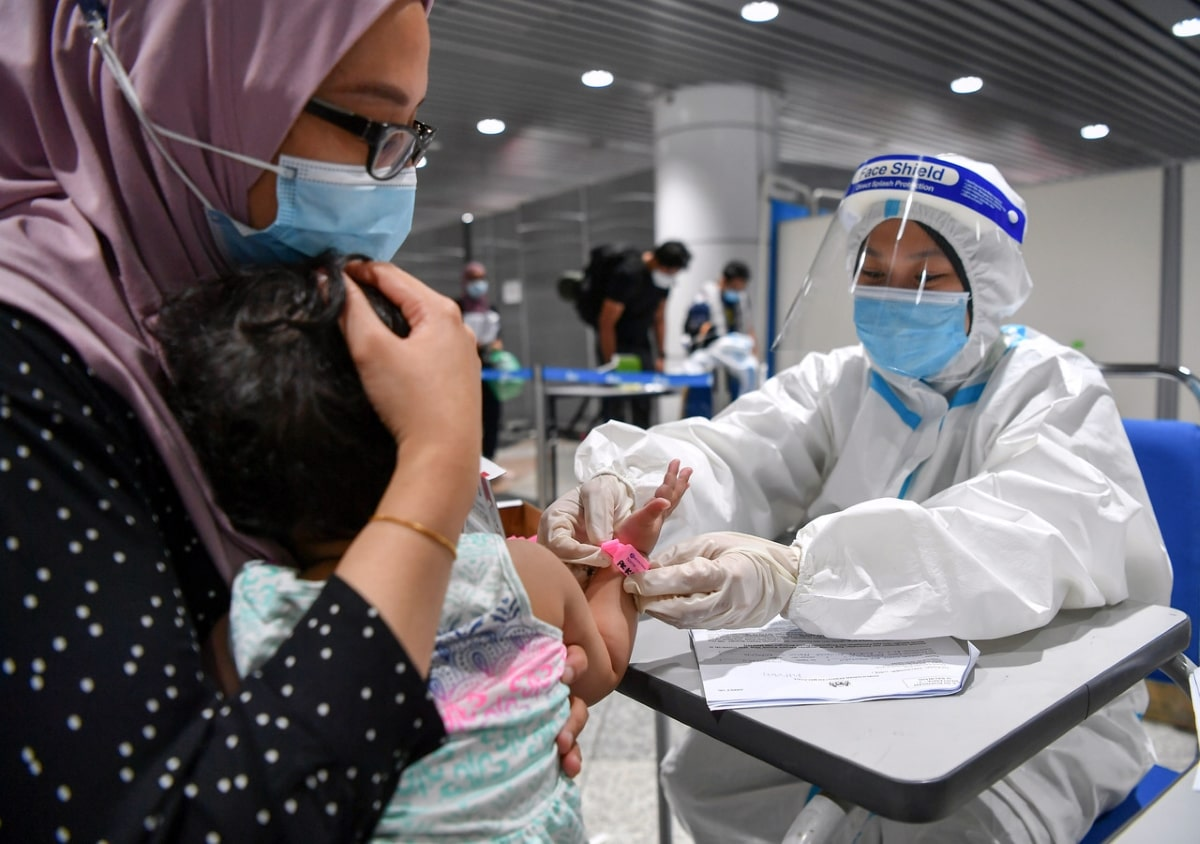Coverall: (566, 151, 1177, 838)
Face_Shield: (792, 143, 1030, 445)
Gloves: (624, 524, 811, 632), (534, 460, 638, 577)
with_mask: (247, 70, 443, 286), (855, 227, 958, 385)
